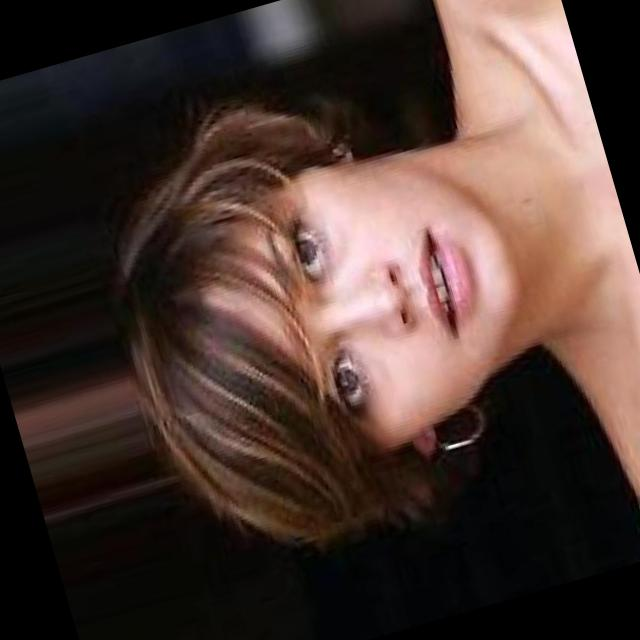bareface: (180, 107, 548, 482)
